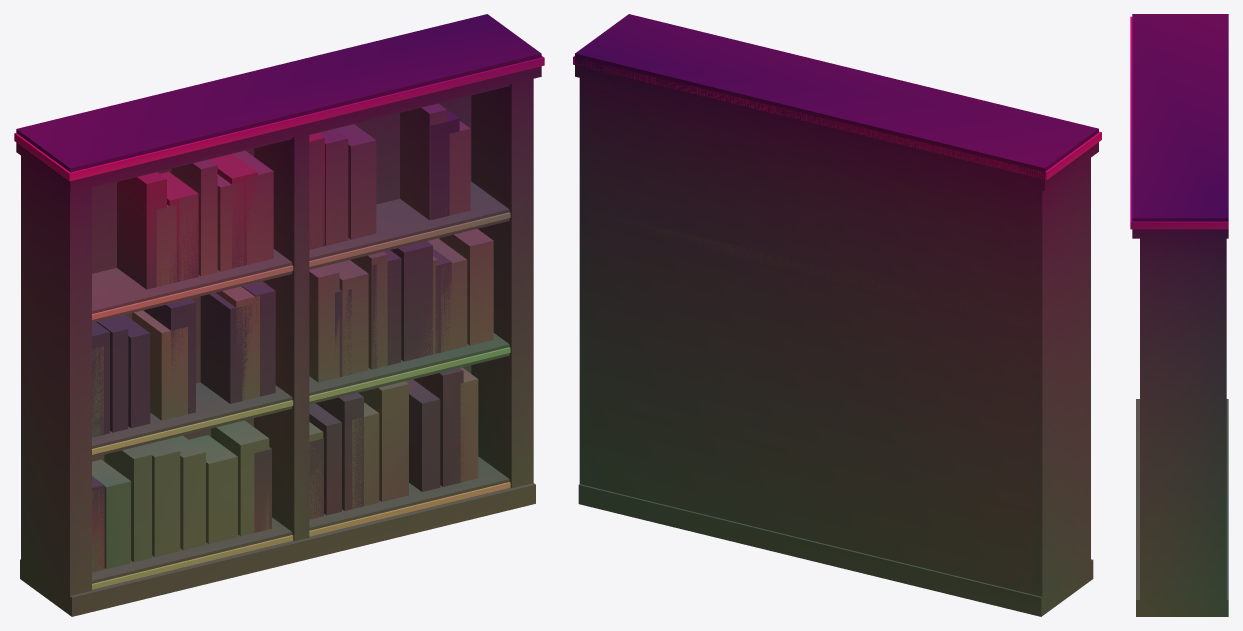
The model's file is scriptorium_shelf.glb.
3 views of the same model, side by side, from view 1: azimuth 30°, elevation 25°; view 2: azimuth 150°, elevation 25°; view 3: azimuth 270°, elevation 25° (orthographic). The views are drawn at different scales.
Parts seen in each view (by area): view 1: shelf_case, books_0, books_1, shelf_gild; view 2: shelf_case, shelf_gild; view 3: shelf_case, shelf_gild.
Part boxes in pixels (x1,y1,x2,y2): shelf_case: (16, 14, 541, 616); books_0: (92, 103, 493, 572); books_1: (92, 103, 463, 572); shelf_gild: (14, 56, 544, 589); shelf_case: (575, 14, 1098, 616); shelf_gild: (573, 56, 1101, 180); shelf_case: (1132, 14, 1228, 616); shelf_gild: (1130, 16, 1228, 229).
Size of the model in its own units: 2.58 by 2.34 by 0.52.
